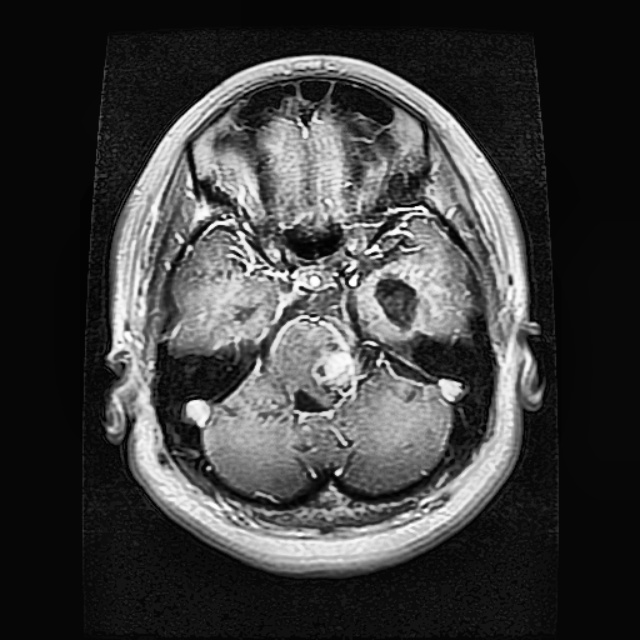Glioma: (308, 332, 367, 397)
